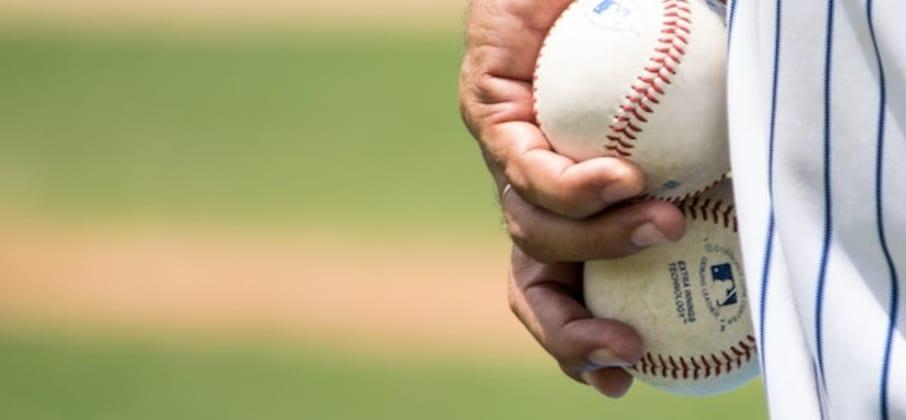baseball: (531, 0, 738, 199), (585, 188, 769, 397)
